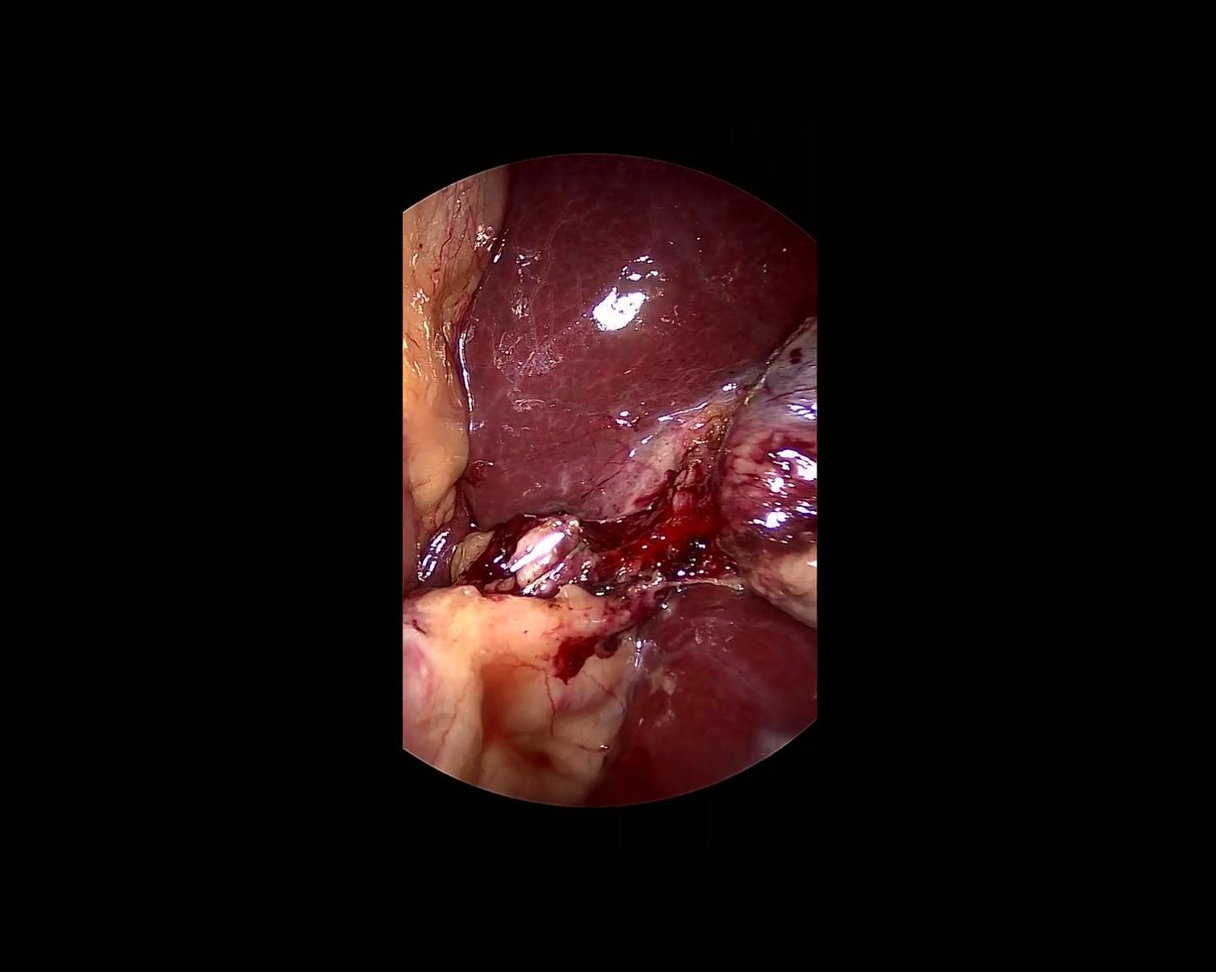Gallbladder: (721, 318, 815, 631)
Liver: (448, 151, 817, 539), (589, 569, 841, 857)
